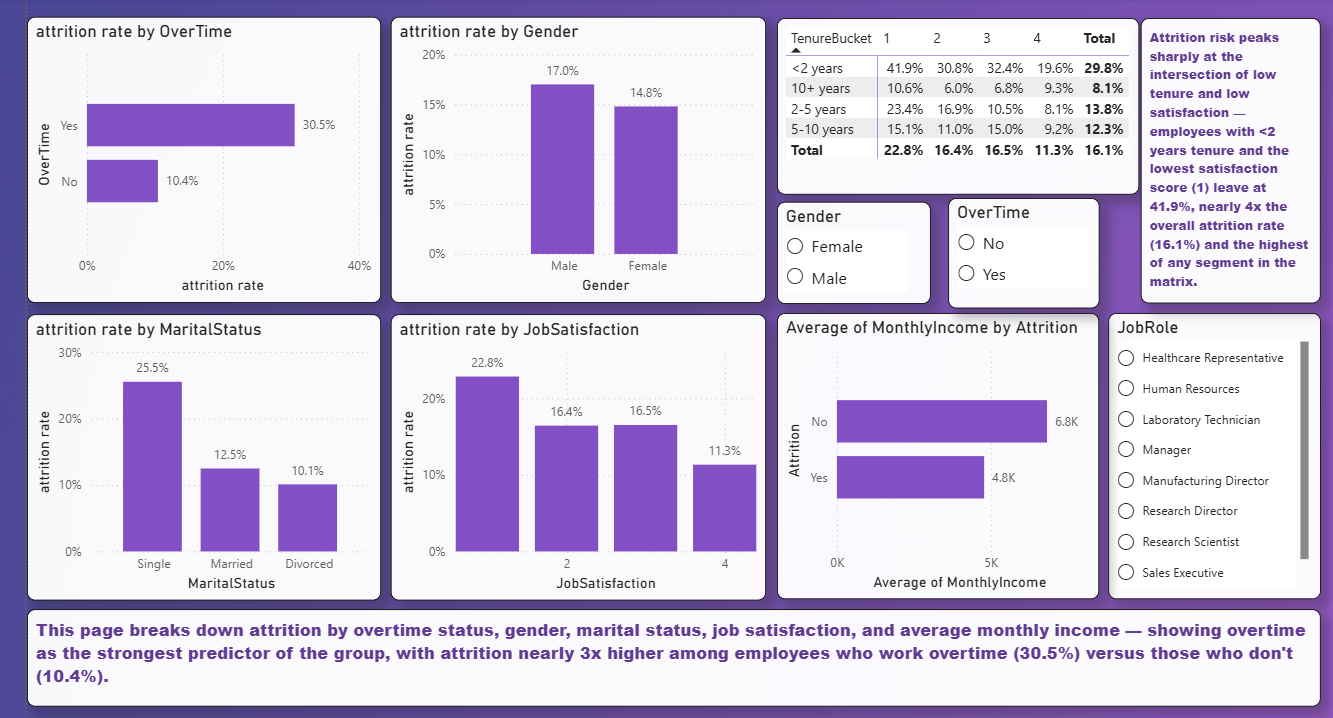

The page's visual inventory and layout, read from the dashboard file:
{"tool":"powerbi","page":{"name":"Page 2","canvas":[1280,720],"ordinal":1},"visuals":[{"type":"clusteredBarChart","fields":{"Category":["HR_cleaned.OverTime"],"Y":["HR_cleaned.attrition rate"]},"box":[14.7,18.3,346.1,280],"z":0},{"type":"columnChart","fields":{"Category":["HR_cleaned.MaritalStatus"],"Y":["HR_cleaned.attrition rate"]},"box":[14.7,308.2,346.1,280],"z":1000},{"type":"columnChart","fields":{"Y":["HR_cleaned.attrition rate"],"Category":["HR_cleaned.Gender"]},"box":[369.3,18.3,388.9,280],"z":2000},{"type":"listSlicer","fields":{"Values":["HR_cleaned.JobRole"]},"box":[1081,18.3,184.6,280],"z":2001},{"type":"pivotTable","fields":{"Columns":["HR_cleaned.JobSatisfaction"],"Rows":["HR_cleaned.TenureBucket"],"Values":["HR_cleaned.attrition rate"]},"box":[765.5,18.3,305.7,160.2],"z":2002},{"type":"columnChart","fields":{"Category":["HR_cleaned.JobSatisfaction"],"Y":["HR_cleaned.attrition rate"]},"box":[369.3,308.2,388.9,280],"z":2003},{"type":"listSlicer","fields":{"Values":["HR_cleaned.Gender"]},"box":[766.1,190.4,151.5,108.2],"z":2004},{"type":"clusteredBarChart","fields":{"Category":["HR_cleaned.Attrition"],"Y":["Avg(HR_cleaned.MonthlyIncome)"]},"box":[765.5,308.2,415.8,280],"z":2005},{"type":"textbox","box":[14.7,598,1251,95.4],"z":2006},{"type":"listSlicer","fields":{"Values":["HR_cleaned.OverTime"]},"box":[929.1,190.4,141.4,108.2],"z":2007}]}

Visuals, with their boxes in screenshot pixels (x1, y1, x2, y2):
clusteredBarChart - HR_cleaned.OverTime x HR_cleaned.attrition rate: [25, 15, 379, 301]
columnChart - HR_cleaned.MaritalStatus x HR_cleaned.attrition rate: [25, 311, 379, 597]
columnChart - HR_cleaned.attrition rate x HR_cleaned.Gender: [387, 15, 784, 301]
listSlicer - HR_cleaned.JobRole: [1113, 15, 1302, 301]
pivotTable - HR_cleaned.JobSatisfaction x HR_cleaned.TenureBucket: [792, 15, 1103, 179]
columnChart - HR_cleaned.JobSatisfaction x HR_cleaned.attrition rate: [387, 311, 784, 597]
listSlicer - HR_cleaned.Gender: [792, 191, 947, 301]
clusteredBarChart - HR_cleaned.Attrition x Avg(HR_cleaned.MonthlyIncome): [792, 311, 1216, 597]
textbox: [25, 607, 1302, 704]
listSlicer - HR_cleaned.OverTime: [958, 191, 1103, 301]
